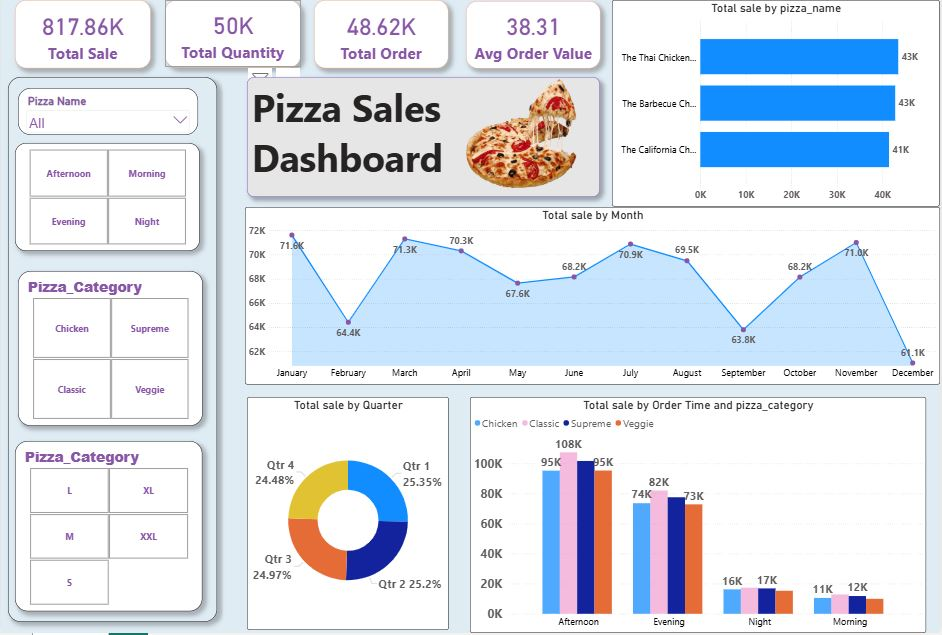

The dashboard page shown, as its layout file describes it:
{"tool":"powerbi","page":{"name":"Page 1","canvas":[2200,1500],"ordinal":0},"visuals":[{"type":"textbox","box":[16.9,196.9,489.5,1277.2],"z":0},{"type":"card","fields":{"Values":["pizza_sales (2).Average Order Value"]},"box":[1088.7,19.7,315.1,157.5],"z":1000},{"type":"slicer","fields":{"Values":["pizza_sales (2).pizza_name"]},"box":[39.4,222.3,422,109.7],"z":2000},{"type":"card","fields":{"Values":["pizza_sales (2).Total sale"]},"box":[33.8,16.9,317.9,160.4],"z":3000},{"type":"card","fields":{"Values":["Sum(pizza_sales (2).quantity)"]},"box":[385.4,16.9,317.9,157.5],"z":4000},{"type":"card","fields":{"Values":["CountNonNull(pizza_sales (2).order_id)"]},"box":[734.3,16.9,315.1,160.4],"z":5000},{"type":"slicer","fields":{"Values":["pizza_sales (2).Order Time"]},"box":[33.8,351.7,433.2,253.2],"z":6000},{"type":"slicer","fields":{"Values":["pizza_sales (2).pizza_category"]},"box":[39.4,652.7,433.2,362.9],"z":7000},{"type":"areaChart","fields":{"Category":["Date_Data.date_data.Variation.Date Hierarchy.Month"],"Y":["pizza_sales (2).Total sale"]},"box":[571.1,500.8,1628.9,416.4],"z":8000},{"type":"clusteredColumnChart","fields":{"Series":["pizza_sales (2).pizza_category"],"Category":["pizza_sales (2).Order Time"],"Y":["pizza_sales (2).Total sale"]},"box":[1099.2,946.9,1068.8,553.1],"z":9000},{"type":"clusteredBarChart","fields":{"Y":["pizza_sales (2).Total sale"],"Category":["pizza_sales (2).pizza_name"]},"box":[1432,16.9,768,483.9],"z":10000},{"type":"textbox","box":[576.7,196.9,827.1,281.3],"z":10500},{"type":"pieChart","fields":{"Y":["pizza_sales (2).Total sale"],"Category":["Date_Data.date_data.Variation.Date Hierarchy.Quarter"]},"box":[576.6,946.9,473.4,546.1],"z":11000},{"type":"slicer","fields":{"Values":["pizza_sales (2).pizza_size"]},"box":[33.8,1049.4,438.9,399.5],"z":13000},{"type":"image","box":[1049.4,196.9,337.6,275.7],"z":14000}]}

Visuals, with their boxes in screenshot pixels (x1, y1, x2, y2), scaled from the page's 2200x1500 canvas onto the 942x635 screenshot:
textbox: bbox=(7, 83, 217, 624)
card - pizza_sales (2).Average Order Value: bbox=(466, 8, 601, 75)
slicer - pizza_sales (2).pizza_name: bbox=(17, 94, 198, 141)
card - pizza_sales (2).Total sale: bbox=(14, 7, 151, 75)
card - Sum(pizza_sales (2).quantity): bbox=(165, 7, 301, 74)
card - CountNonNull(pizza_sales (2).order_id): bbox=(314, 7, 449, 75)
slicer - pizza_sales (2).Order Time: bbox=(14, 149, 200, 256)
slicer - pizza_sales (2).pizza_category: bbox=(17, 276, 202, 430)
areaChart - Date_Data.date_data.Variation.Date Hierarchy.Month x pizza_sales (2).Total sale: bbox=(245, 212, 941, 388)
clusteredColumnChart - pizza_sales (2).pizza_category x pizza_sales (2).Order Time: bbox=(471, 401, 928, 634)
clusteredBarChart - pizza_sales (2).Total sale x pizza_sales (2).pizza_name: bbox=(613, 7, 941, 212)
textbox: bbox=(247, 83, 601, 202)
pieChart - pizza_sales (2).Total sale x Date_Data.date_data.Variation.Date Hierarchy.Quarter: bbox=(247, 401, 450, 632)
slicer - pizza_sales (2).pizza_size: bbox=(14, 444, 202, 613)
image: bbox=(449, 83, 594, 200)
